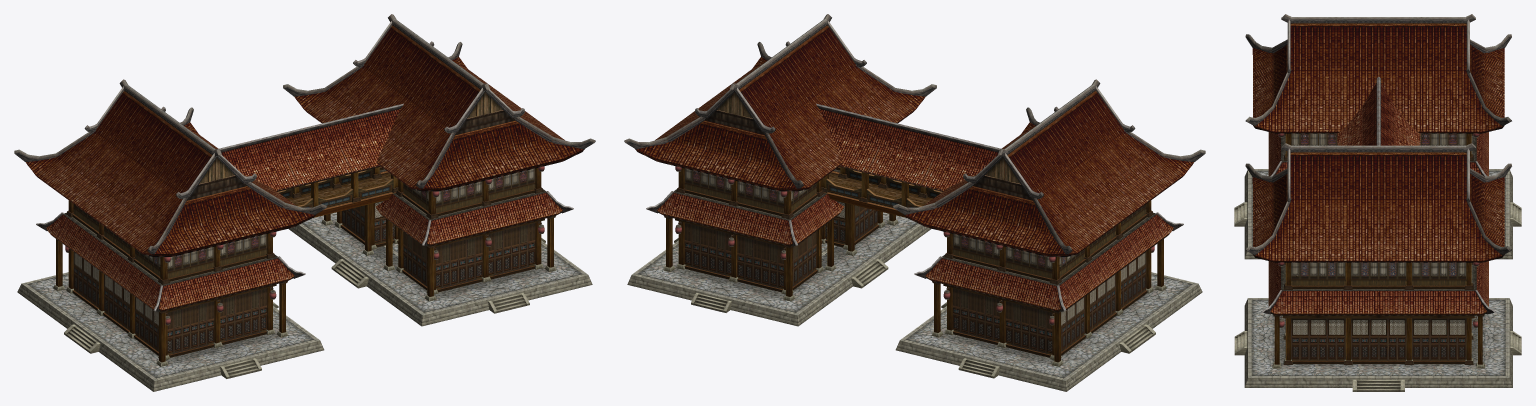
File: a1-009-hotel.fbx
3 views of the same model, side by side, from view 1: azimuth 30°, elevation 25°; view 2: azimuth 150°, elevation 25°; view 3: azimuth 270°, elevation 25° (orthographic).
Parts seen in each view (by area): view 1: lamp06; view 2: lamp06; view 3: lamp06.
Part boxes in pixels (x1,y1,x2,y2): lamp06: (14,14,595,391); lamp06: (624,14,1205,391); lamp06: (1234,14,1521,391).
Bounding box in the file's own units: 35.89 × 15.6 × 19.9.
